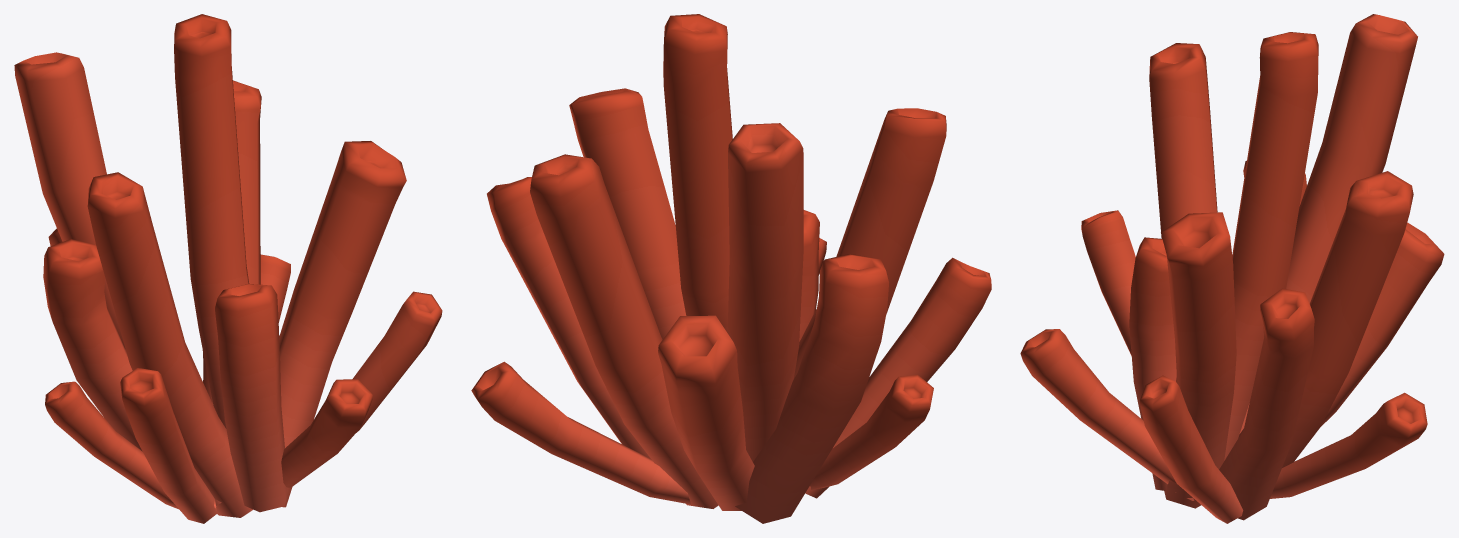
Rendered from CoralCB.fbx.
The picture shows the model from 3 angles, left to right: view 1: azimuth 30°, elevation 25°; view 2: azimuth 150°, elevation 25°; view 3: azimuth 270°, elevation 25°; orthographic projection. The views are drawn at different scales.
Visible parts, largest first — view 1: CoralCB; view 2: CoralCB; view 3: CoralCB.
Part boxes in pixels (left/top/right/bottom): CoralCB: left=14, top=14, right=442, bottom=523; CoralCB: left=471, top=14, right=991, bottom=523; CoralCB: left=1020, top=14, right=1444, bottom=523.
Bounding box in the file's own units: 54.3 × 63.72 × 53.05.
1 material, 1 textured.
